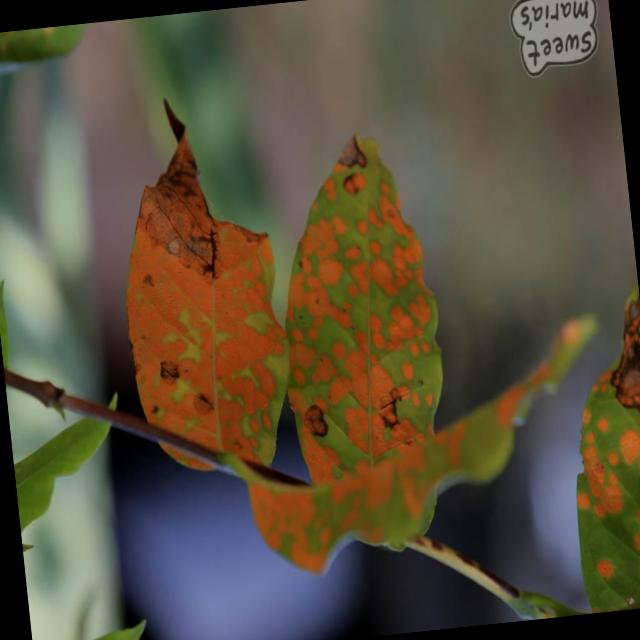leaf_rust: (128, 102, 595, 573)
